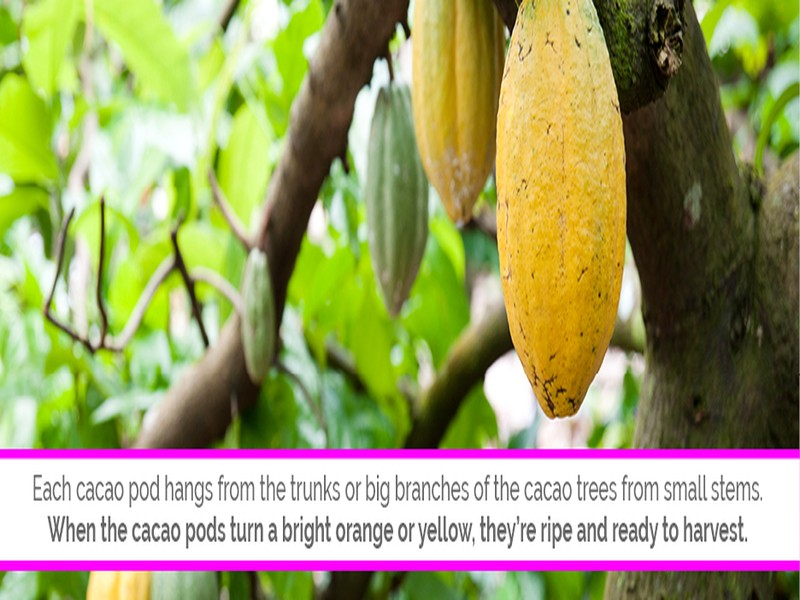Cacaopod: (499, 2, 627, 424)
